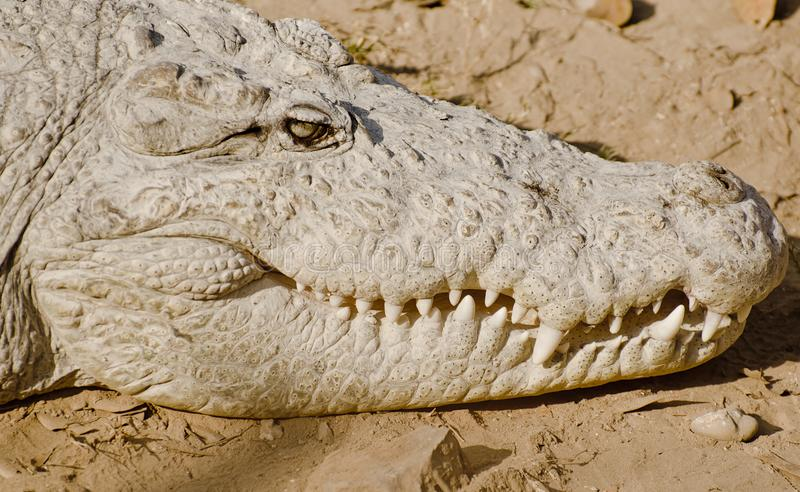Crocodile: (1, 4, 787, 410)
